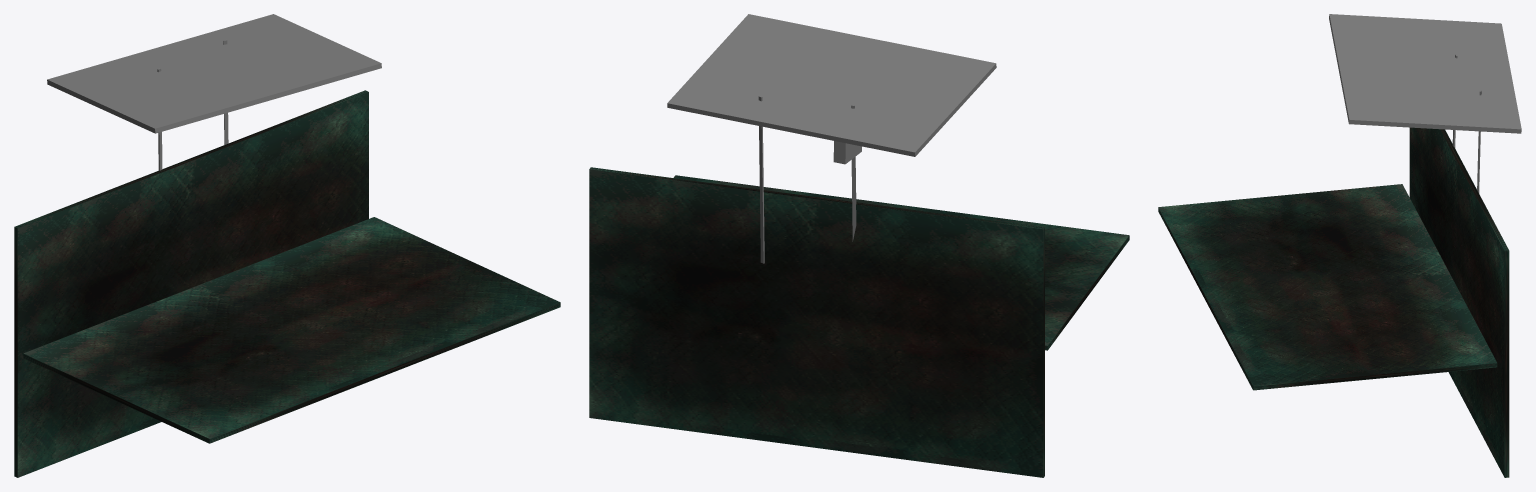
Rendered from WaterDecr.fbx.
The picture shows the model from 3 angles, left to right: view 1: azimuth 30°, elevation 25°; view 2: azimuth 150°, elevation 25°; view 3: azimuth 270°, elevation 25°; orthographic projection. The views are drawn at different scales.
Visible parts, largest first — view 1: Cube__6_, Cube__5_, Cube__4_; view 2: Cube__5_, Cube__4_, Cube__6_, Cube__1_; view 3: Cube__6_, Cube__4_, Cube__5_.
Part boxes in pixels (x1,y1,x2,y2): Cube__6_: (23,217,560,443); Cube__5_: (14,90,368,477); Cube__4_: (47,14,381,133); Cube__5_: (589,167,1044,477); Cube__4_: (667,14,996,156); Cube__6_: (673,175,1129,350); Cube__1_: (758,96,764,263); Cube__6_: (1158,184,1497,390); Cube__4_: (1329,14,1521,133); Cube__5_: (1409,127,1509,477).
Bounding box in the file's own units: 691 × 518 × 523.
Materials: 2 (1 with a texture image).
